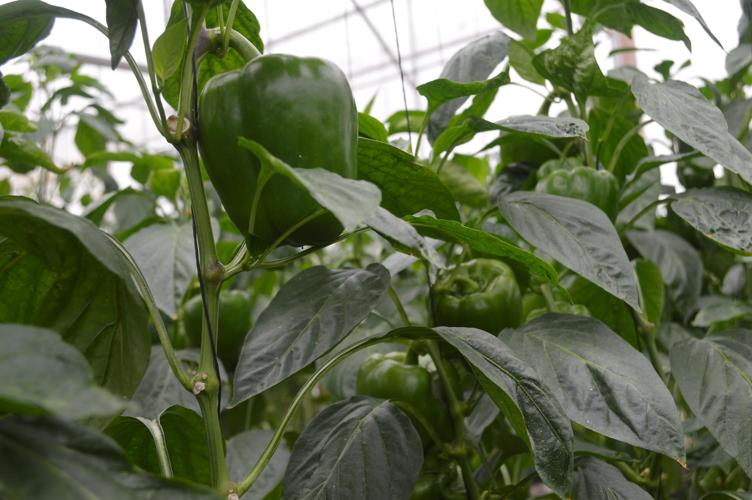BellPepper: (187, 53, 368, 260), (355, 346, 451, 450), (420, 256, 526, 343), (524, 149, 619, 235), (163, 289, 267, 361)
